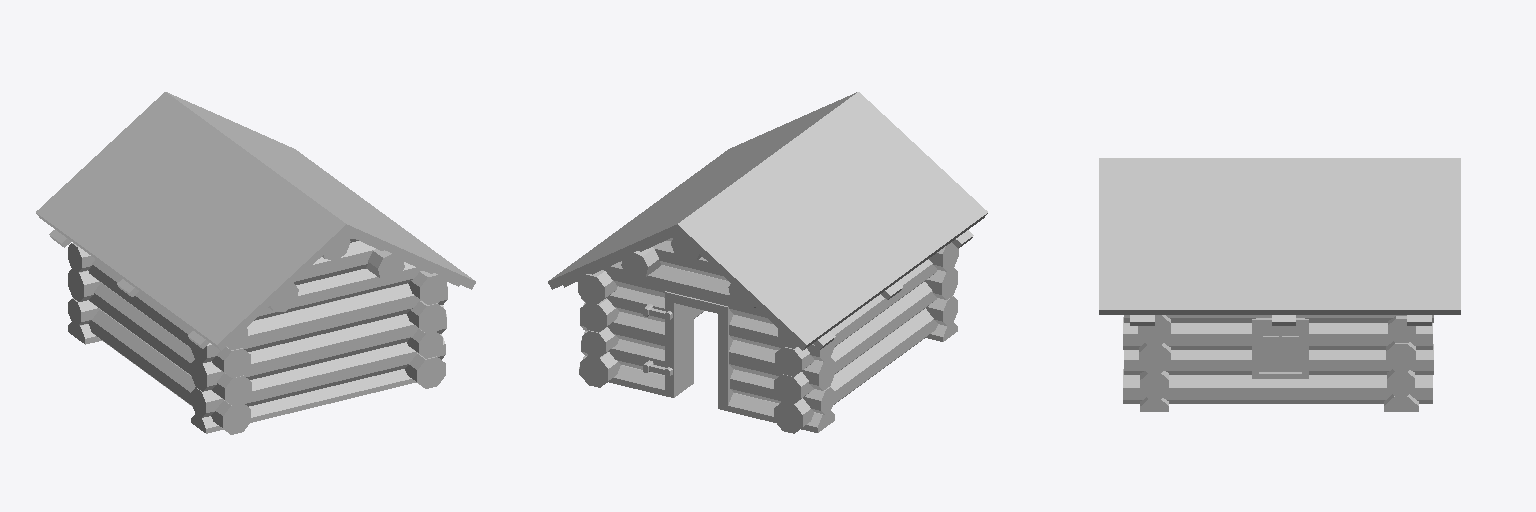
The model's file is cabin.obj.
3 views of the same model, side by side, from view 1: azimuth 30°, elevation 25°; view 2: azimuth 150°, elevation 25°; view 3: azimuth 270°, elevation 25° (orthographic).
Visible parts, largest first — view 1: House_Cylinder.057; view 2: House_Cylinder.057; view 3: House_Cylinder.057.
Boxes of the visible parts, box(x1,y1,x2,y2) form: House_Cylinder.057: box(36, 92, 475, 434); House_Cylinder.057: box(548, 92, 987, 433); House_Cylinder.057: box(1099, 158, 1460, 411).
Size of the model in its own units: 6.02 by 4.31 by 7.21.